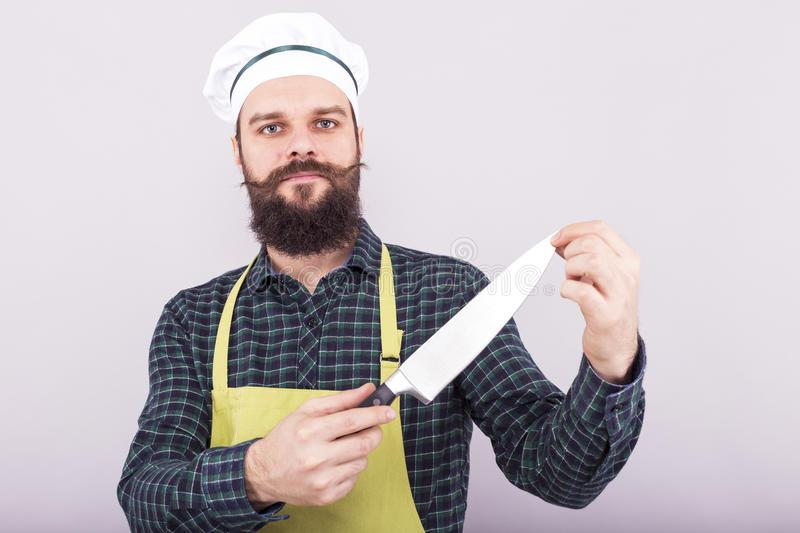criminal: (117, 9, 647, 533)
weapon: (357, 228, 562, 413)
